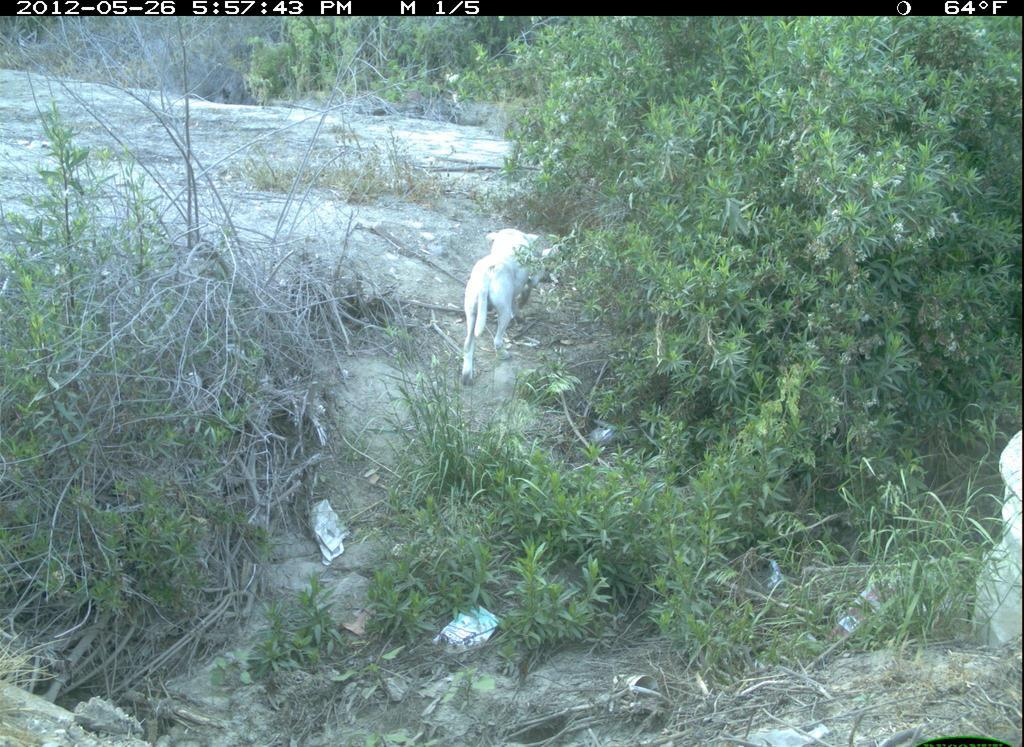dog: (456, 219, 548, 388)
